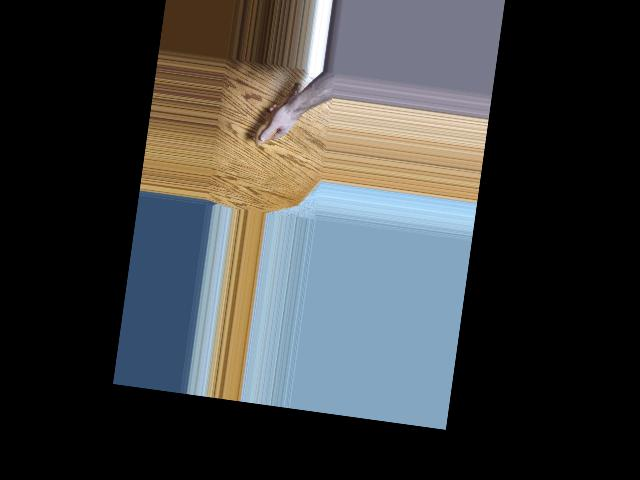sweet_potato: (253, 65, 304, 151)
